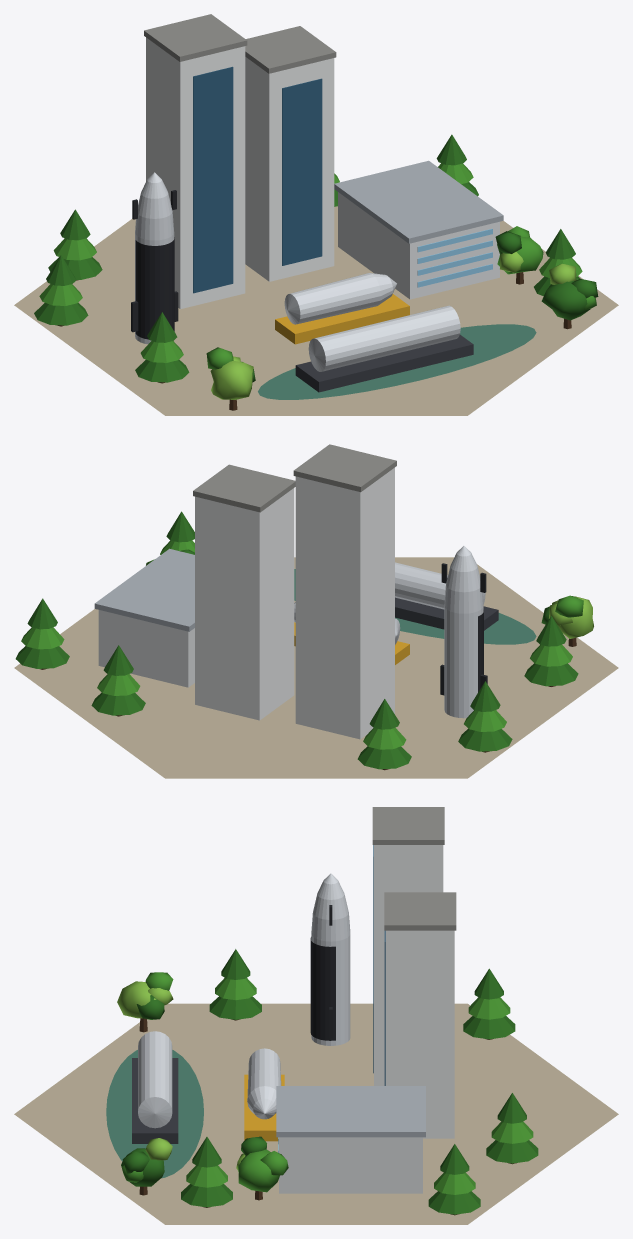
Rendered from wonder_starbase_la.fbx.
3 renders of one model, top to bottom at view 1: azimuth 30°, elevation 25°; view 2: azimuth 150°, elevation 25°; view 3: azimuth 270°, elevation 25°, orthographic.
Parts seen in each view (by area): view 1: wonder_starbase_la; view 2: wonder_starbase_la; view 3: wonder_starbase_la.
Part boxes in pixels (left/top/right/bottom): wonder_starbase_la: left=14, top=14, right=618, bottom=415; wonder_starbase_la: left=14, top=444, right=618, bottom=778; wonder_starbase_la: left=14, top=807, right=618, bottom=1224.
Size of the model in its own units: 186 by 97.4 by 210.
